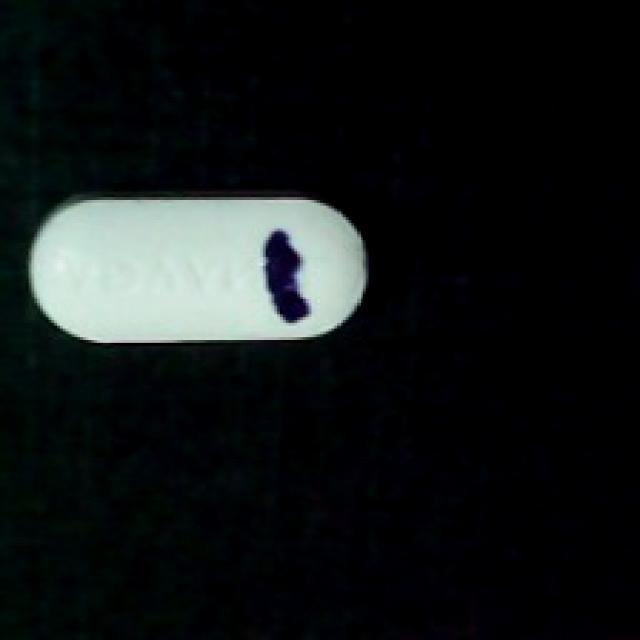defected: (20, 186, 380, 346)
